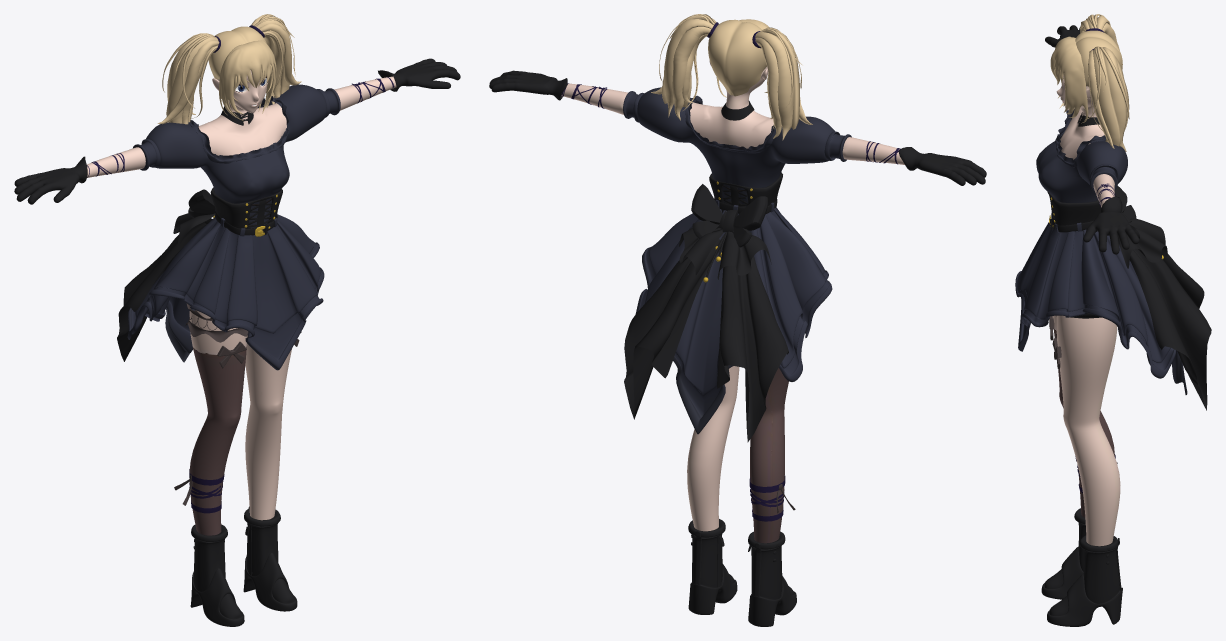
The model's file is modelo.glb.
3 renders of one model, left to right at view 1: azimuth 30°, elevation 25°; view 2: azimuth 150°, elevation 25°; view 3: azimuth 270°, elevation 25°, orthographic. The views are drawn at different scales.
Parts seen in each view (by area): view 1: CUERPO, FALDA, CAMISA, BOTAS, BézierCurve.022, GUANTES, BézierCurve, CAPA 2, FAJA, BASE P, BORDE, LIGAS M (+1 smaller); view 2: FALDA, CUERPO, CAPA 2, CAMISA, BézierCurve.022, BOTAS, GUANTES, BASE P, CAPA 1, MOÑO A, FAJA, BORDE (+1 smaller); view 3: CUERPO, FALDA, CAPA 2, BOTAS, CAMISA, BézierCurve.022, GUANTES, BézierCurve, CAPA 1, FAJA, BASE P, BORDE (+1 smaller).
Boxes of the visible parts, box(x1,y1,x2,y2) form: CUERPO: box(87, 70, 396, 535); FALDA: box(127, 214, 324, 370); CAMISA: box(133, 84, 340, 228); BOTAS: box(190, 506, 297, 626); BézierCurve.022: box(157, 14, 301, 124); GUANTES: box(14, 58, 460, 204); BézierCurve: box(219, 40, 276, 121); CAPA 2: box(117, 218, 212, 361); FAJA: box(210, 187, 282, 228); BASE P: box(208, 26, 266, 79); BORDE: box(188, 96, 288, 163); LIGAS M: box(174, 469, 224, 513); FALDA: box(635, 207, 832, 434); CUERPO: box(561, 61, 904, 543); CAPA 2: box(624, 239, 788, 442); CAMISA: box(623, 87, 851, 206); BézierCurve.022: box(651, 14, 812, 140); BOTAS: box(688, 519, 796, 626); GUANTES: box(489, 70, 986, 185); BASE P: box(708, 19, 766, 96); CAPA 1: box(679, 228, 771, 279); MOÑO A: box(691, 184, 768, 247); FAJA: box(709, 172, 782, 205); BORDE: box(685, 95, 775, 153); CUERPO: box(1052, 74, 1120, 546); FALDA: box(1015, 222, 1187, 394); CAPA 2: box(1129, 248, 1211, 410); BOTAS: box(1041, 508, 1122, 626); CAMISA: box(1036, 110, 1127, 218); BézierCurve.022: box(1080, 14, 1129, 151); GUANTES: box(1045, 25, 1139, 254); BézierCurve: box(1050, 36, 1088, 123); CAPA 1: box(1117, 218, 1167, 268); FAJA: box(1047, 191, 1101, 225); BASE P: box(1075, 30, 1122, 86); BORDE: box(1055, 109, 1105, 167).
Size of the model in its own units: 5.29 by 6.33 by 1.96.
12 materials, 9 textured.
